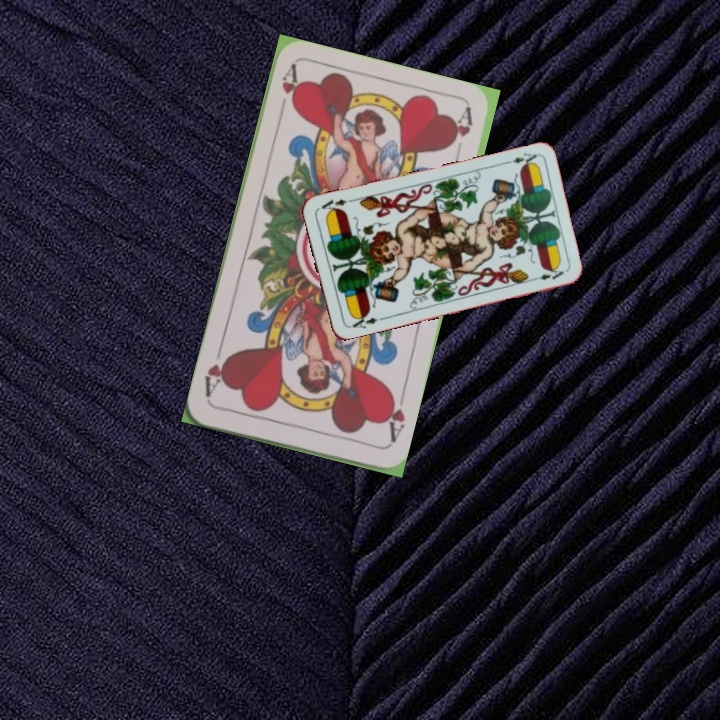EA: (344, 310, 385, 331), (500, 149, 539, 170)
HA: (380, 387, 408, 448), (275, 62, 302, 121)
